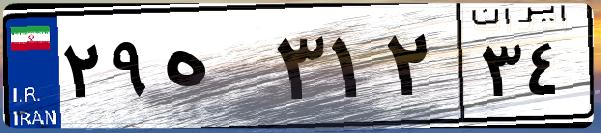1: (330, 28, 385, 110)
2: (385, 28, 445, 110), (57, 26, 110, 100)
3: (270, 28, 330, 110), (475, 38, 525, 113)
4: (525, 38, 570, 115)
9: (110, 28, 158, 98)
ه: (158, 20, 270, 120)
